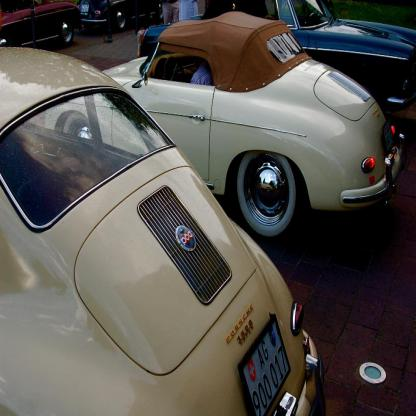Car: (1, 46, 327, 416), (103, 9, 407, 239), (138, 2, 416, 114)
